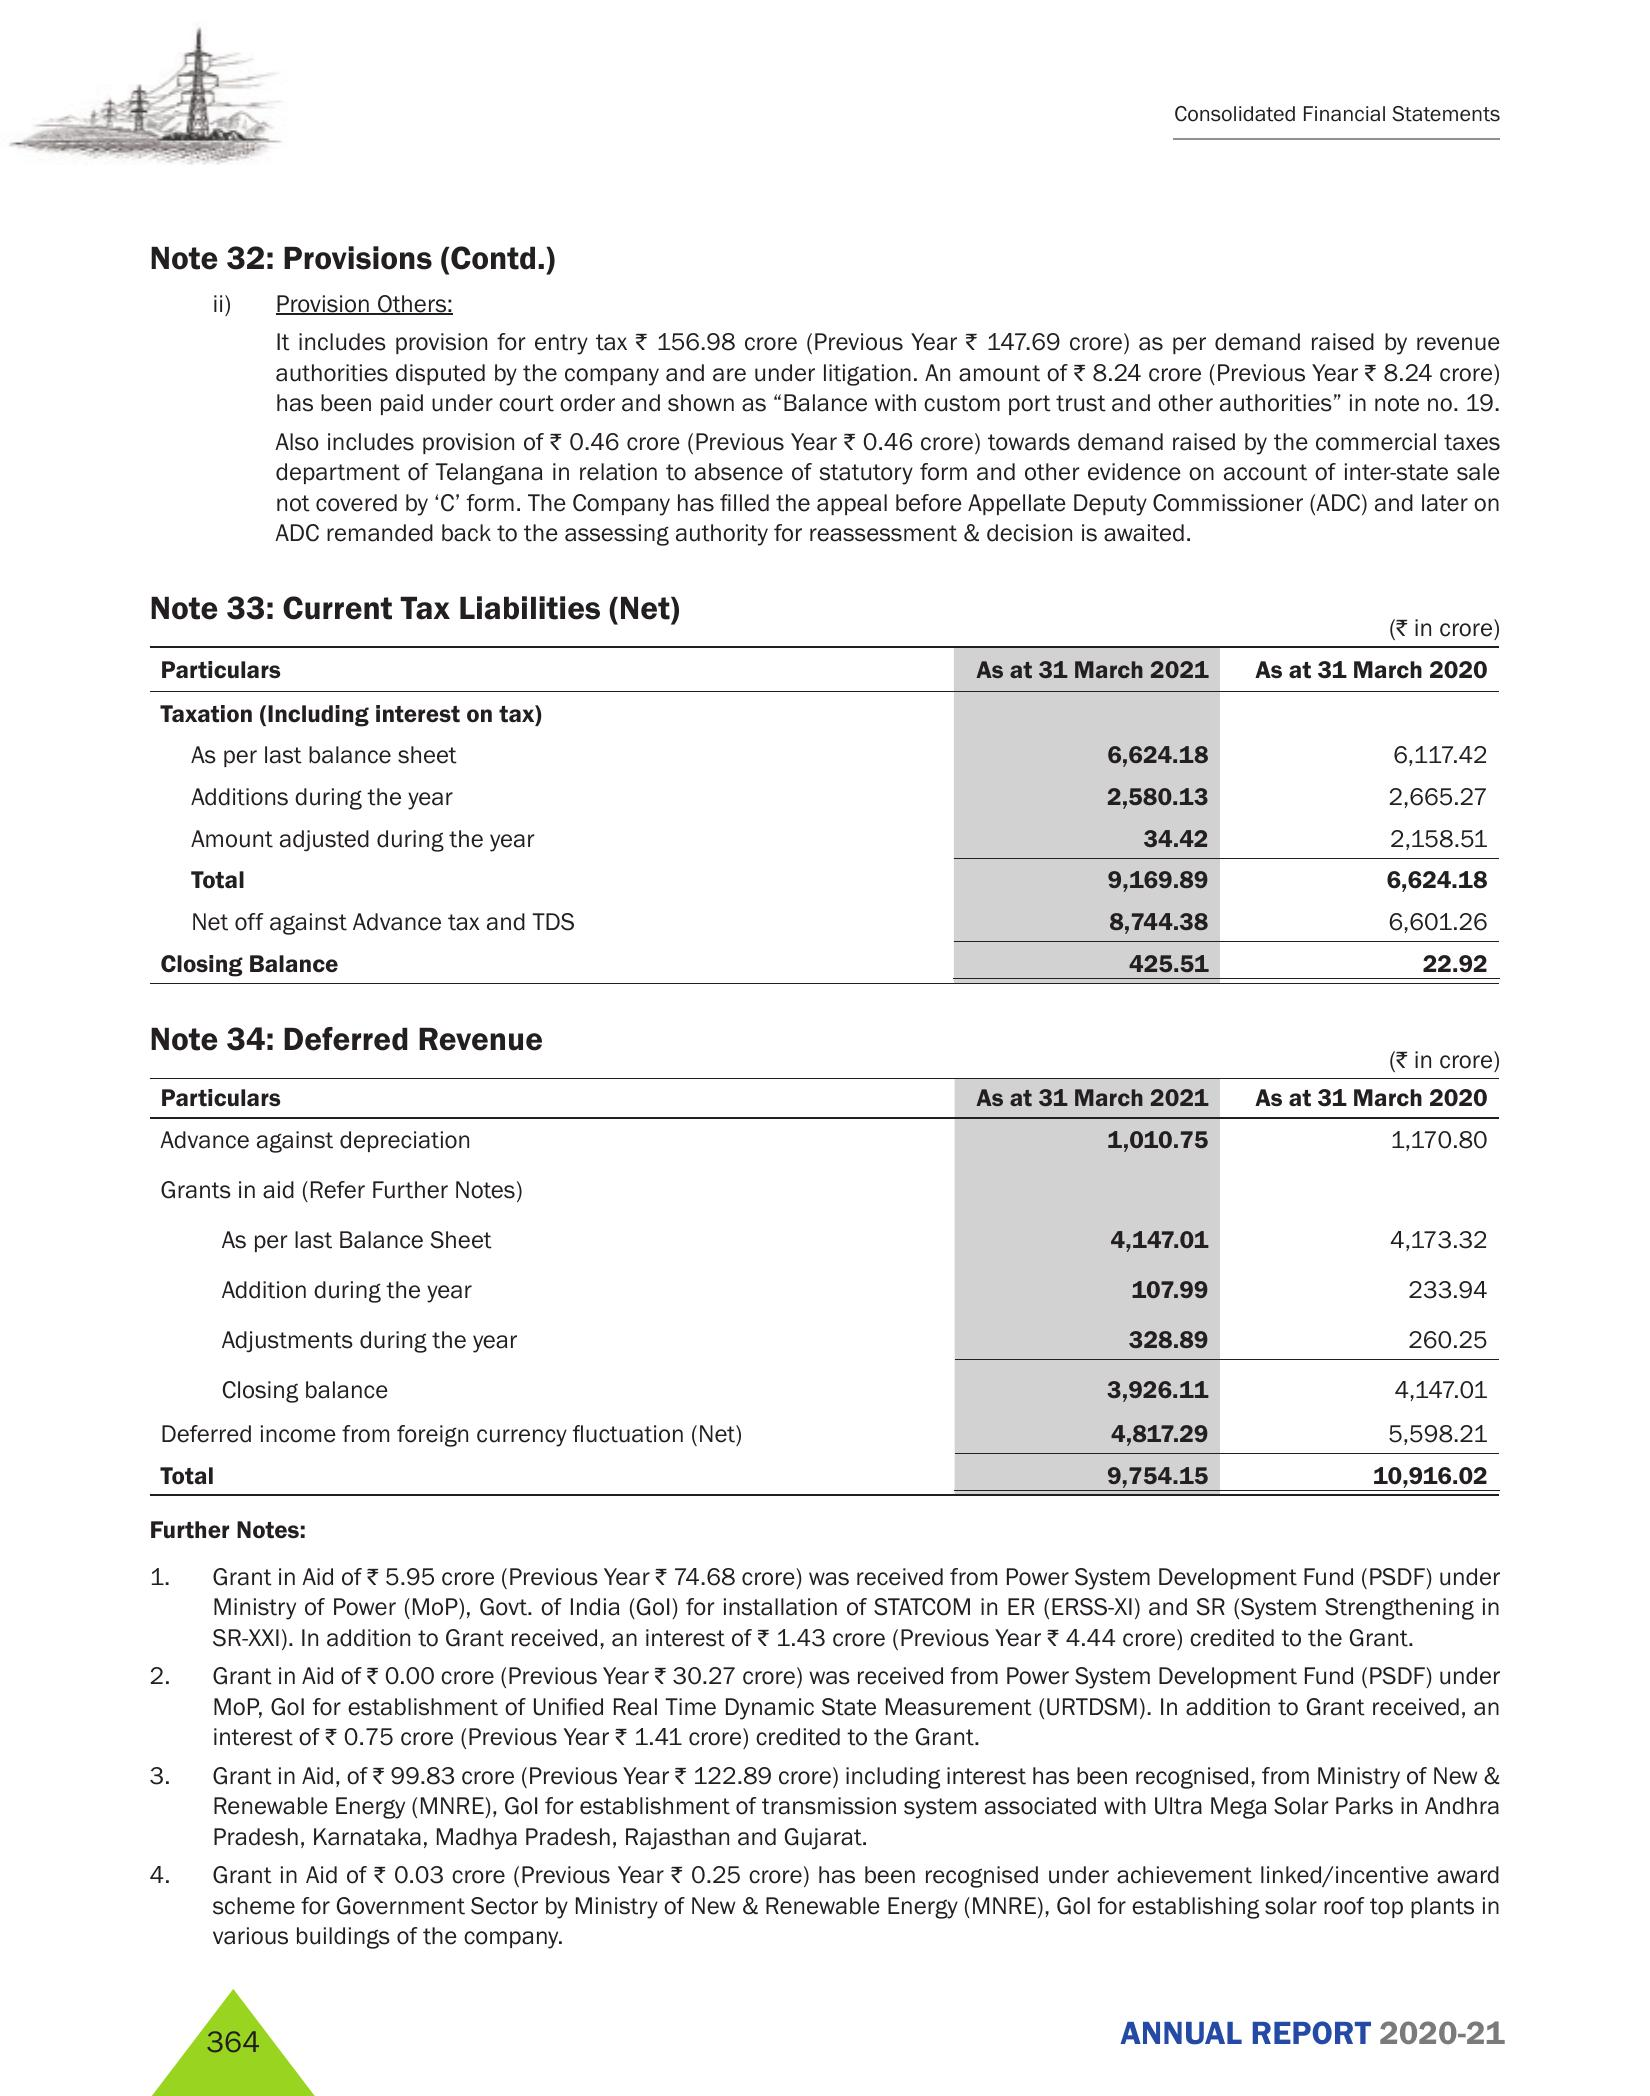Footer: (3, 1968, 1650, 2096)
Header: (0, 0, 1650, 189)
Table: (122, 1070, 1499, 1495), (129, 646, 1533, 982)
